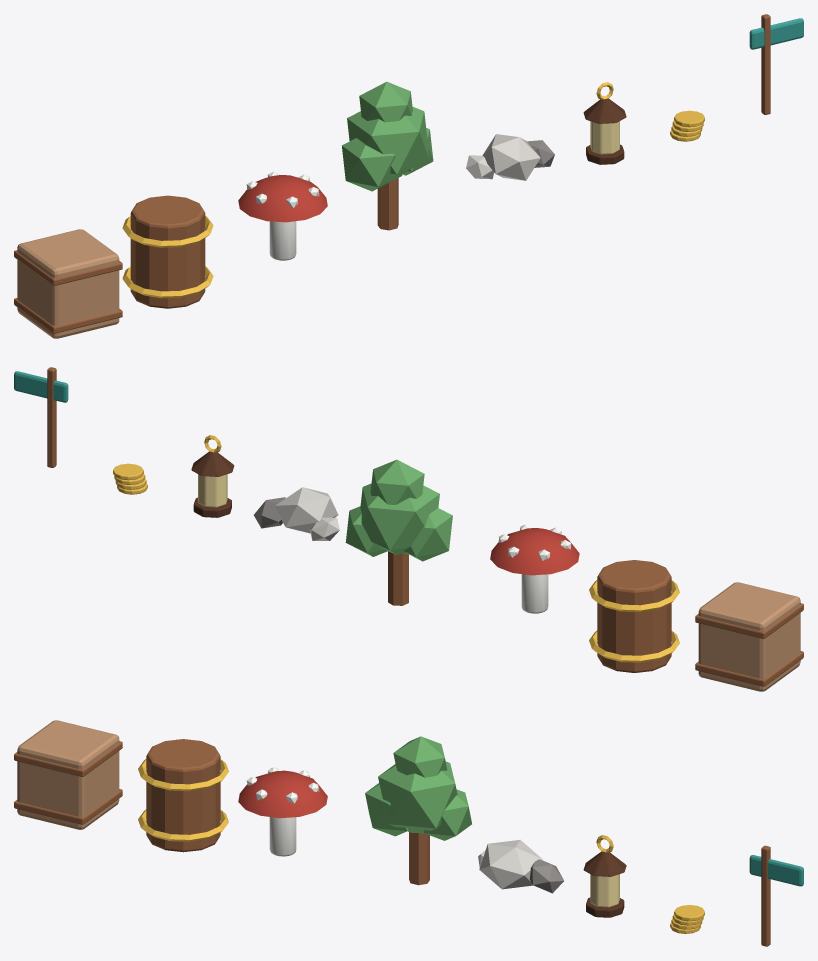
Rendered from props.glb.
The picture shows the model from 3 angles, top to bottom: view 1: azimuth 30°, elevation 25°; view 2: azimuth 150°, elevation 25°; view 3: azimuth 330°, elevation 25°; orthographic projection.
Parts seen in each view (by area): view 1: crate, barrel, tree, mushroom, rocks, lantern, signpost, coins; view 2: crate, tree, barrel, mushroom, rocks, lantern, signpost, coins; view 3: crate, tree, barrel, mushroom, rocks, lantern, signpost, coins.
Part boxes in pixels (<box>): crate: <box>14,229,122,338</box>; barrel: <box>122,195,213,308</box>; tree: <box>342,81,433,230</box>; mushroom: <box>238,171,327,260</box>; rocks: <box>466,134,554,180</box>; lantern: <box>583,82,626,164</box>; signpost: <box>749,14,803,114</box>; coins: <box>670,110,704,141</box>; crate: <box>695,582,803,691</box>; tree: <box>345,459,452,605</box>; barrel: <box>589,560,679,672</box>; mushroom: <box>490,524,579,613</box>; rocks: <box>254,487,339,540</box>; lantern: <box>191,435,234,517</box>; signpost: <box>14,367,68,467</box>; coins: <box>113,463,147,494</box>; crate: <box>14,720,122,829</box>; tree: <box>365,736,471,885</box>; barrel: <box>138,739,228,852</box>; mushroom: <box>238,767,327,856</box>; rocks: <box>478,839,563,893</box>; lantern: <box>583,835,626,917</box>; signpost: <box>749,845,803,946</box>; coins: <box>670,905,704,933</box>.
Size of the model in its own units: 5.74 by 1.07 by 0.7477.
